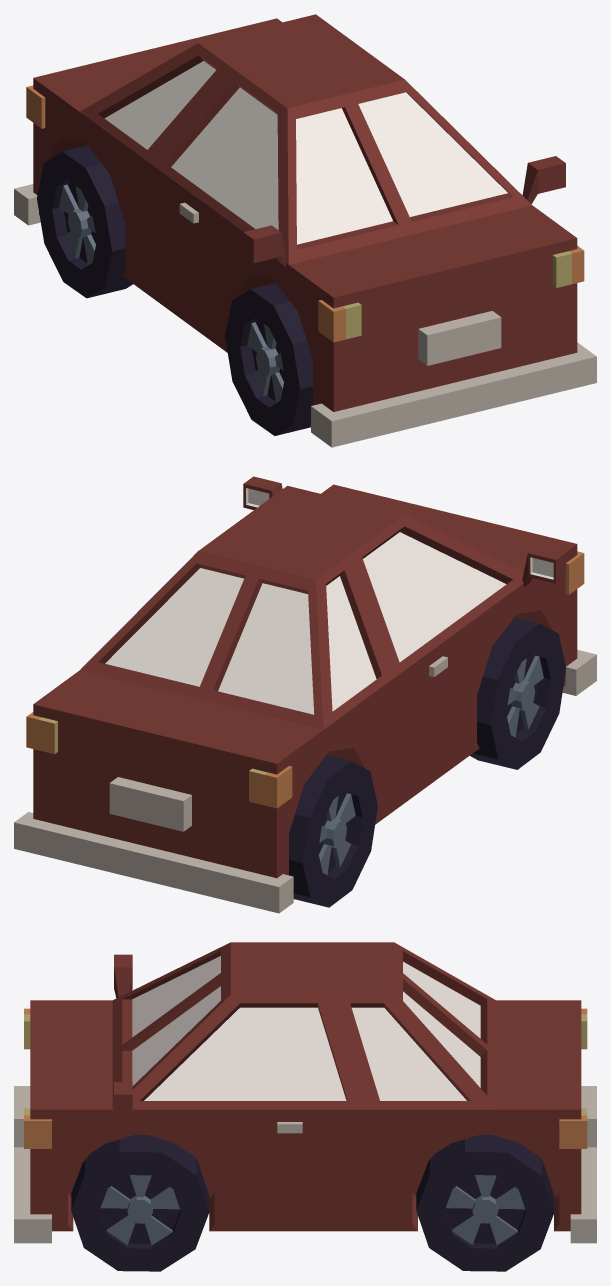
The model's file is car 4.fbx.
3 views of the same model, one above another, from view 1: azimuth 30°, elevation 25°; view 2: azimuth 150°, elevation 25°; view 3: azimuth 270°, elevation 25° (orthographic). The views are drawn at different scales.
Visible parts, largest first — view 1: car 2; view 2: car 2; view 3: car 2.
Part boxes in pixels (x1,y1,x2,y2): car 2: (14,14,596,447); car 2: (14,476,596,913); car 2: (14,942,596,1271).
Bounding box in the file's own units: 168 × 136 × 296.
